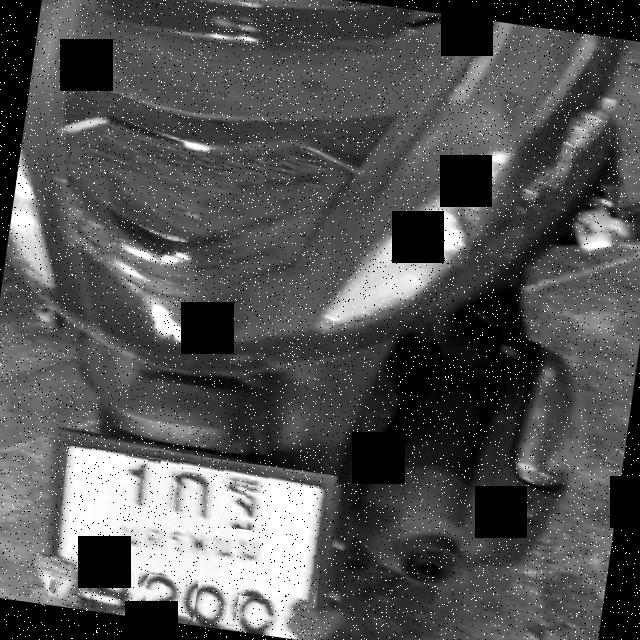letters: (88, 555, 140, 617), (218, 479, 268, 532), (169, 468, 217, 522), (119, 454, 161, 508), (234, 596, 283, 638), (192, 580, 232, 630), (142, 574, 182, 616)
license-plate: (47, 439, 331, 637)
province: (107, 512, 279, 586)
